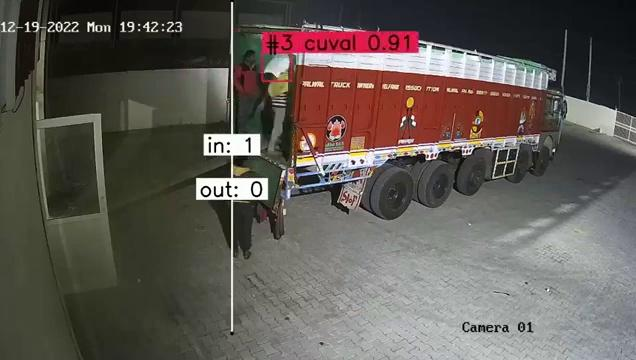karung: (265, 55, 289, 80)
